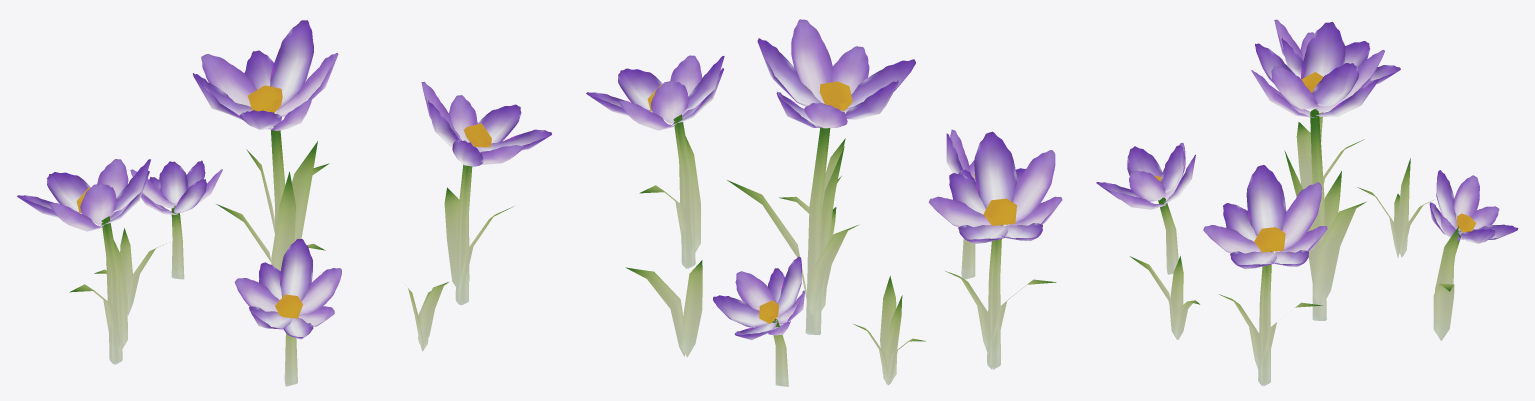
Rendered from P_FlowerCrocus02.obj.
The picture shows the model from 3 angles, left to right: view 1: azimuth 30°, elevation 25°; view 2: azimuth 150°, elevation 25°; view 3: azimuth 270°, elevation 25°; orthographic projection. The views are drawn at different scales.
Size of the model in its own units: 1.37 by 0.7938 by 1.1.
